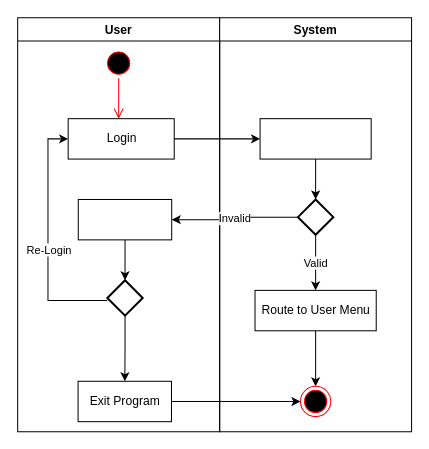
The diagram is 429 pixels wide and 449 high, and some of its shapes have lost their labels. Each missing label, with the centre of its shape:
"Prompt Invalid message" belongs at (124,219).
"Verify Login Details" belongs at (315,138).
